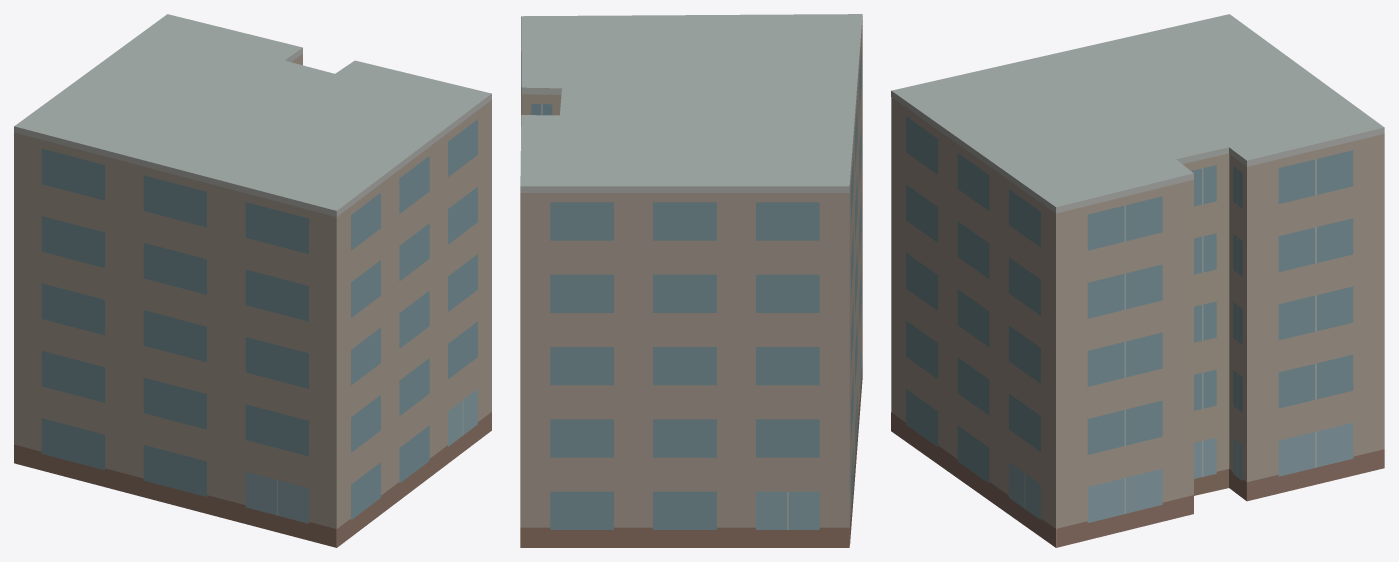
Rendered from survey-upis-32947543.glb.
The picture shows the model from 3 angles, left to right: view 1: azimuth 30°, elevation 25°; view 2: azimuth 150°, elevation 25°; view 3: azimuth 270°, elevation 25°; orthographic projection. The views are drawn at different scales.
Visible parts, largest first — view 1: survey-upis-32947543.tmp; view 2: survey-upis-32947543.tmp; view 3: survey-upis-32947543.tmp.
Part boxes in pixels (x1,y1,x2,y2): survey-upis-32947543.tmp: (14, 14, 491, 547); survey-upis-32947543.tmp: (520, 14, 862, 547); survey-upis-32947543.tmp: (891, 14, 1384, 547).
Bounding box in the file's own units: 16.2 × 13.3 × 17.47.
